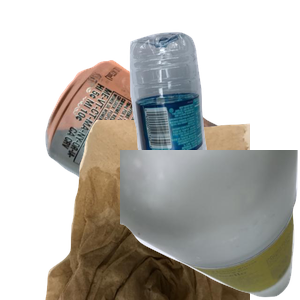glass: (120, 150, 300, 300)
metal: (43, 58, 283, 238)
plastic: (127, 29, 300, 209)
trash: (43, 120, 283, 300)
